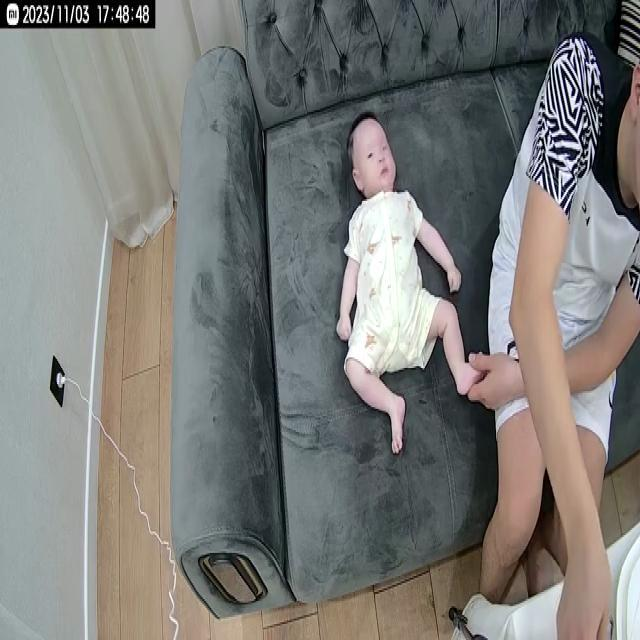baby: (334, 109, 486, 464)
